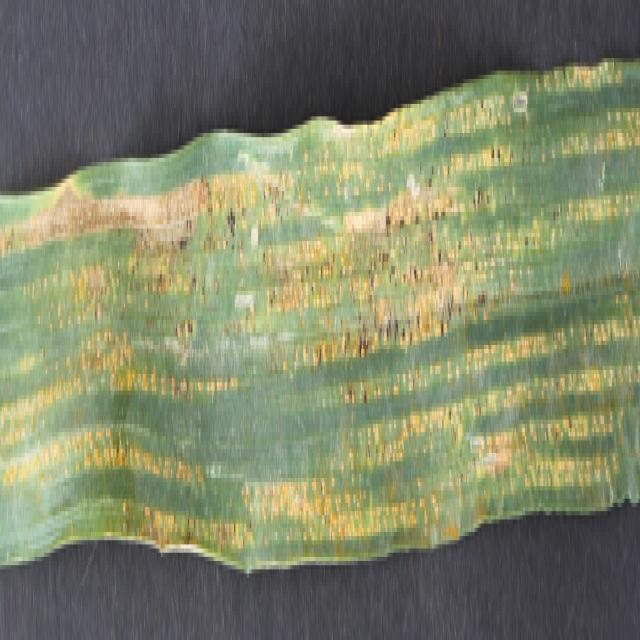leaf rust: (1, 53, 640, 544)
